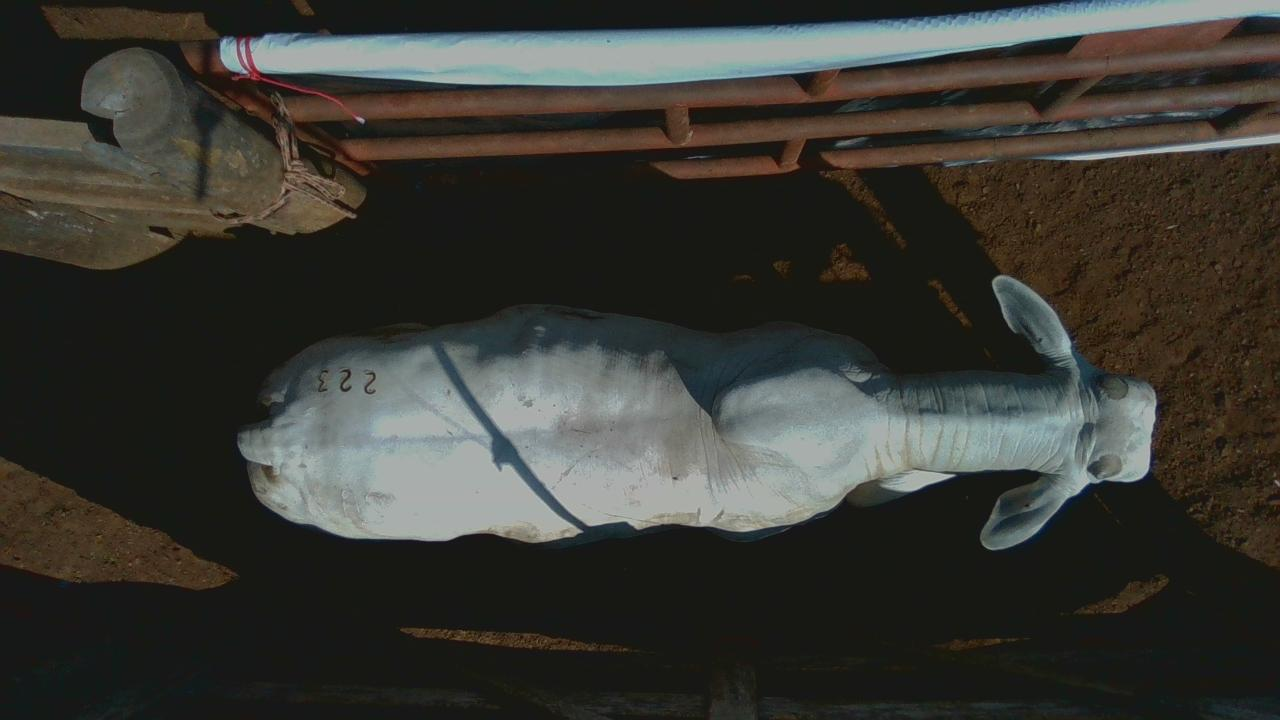cattle: (236, 273, 1157, 551)
